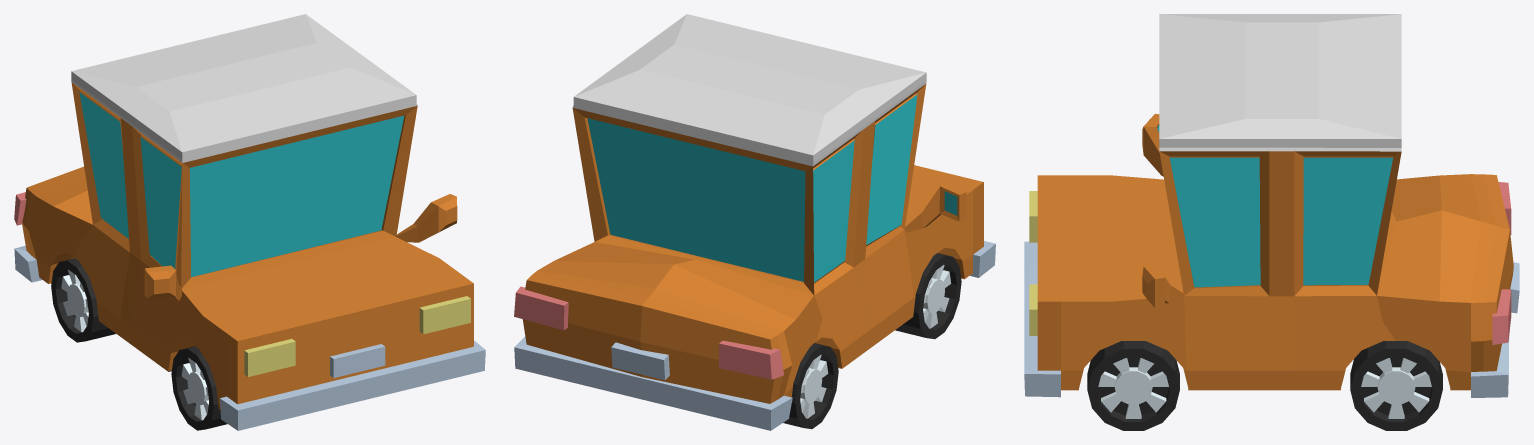
Rendered from Car_01_v3.fbx.
3 views of the same model, side by side, from view 1: azimuth 30°, elevation 25°; view 2: azimuth 150°, elevation 25°; view 3: azimuth 270°, elevation 25° (orthographic). The views are drawn at different scales.
Visible parts, largest first — view 1: Car_01; view 2: Car_01; view 3: Car_01.
Part boxes in pixels (left/top/right/bottom): Car_01: left=14, top=14, right=485, bottom=430; Car_01: left=514, top=14, right=995, bottom=430; Car_01: left=1024, top=14, right=1519, bottom=430.
Bounding box in the file's own units: 524 × 438 × 664.
